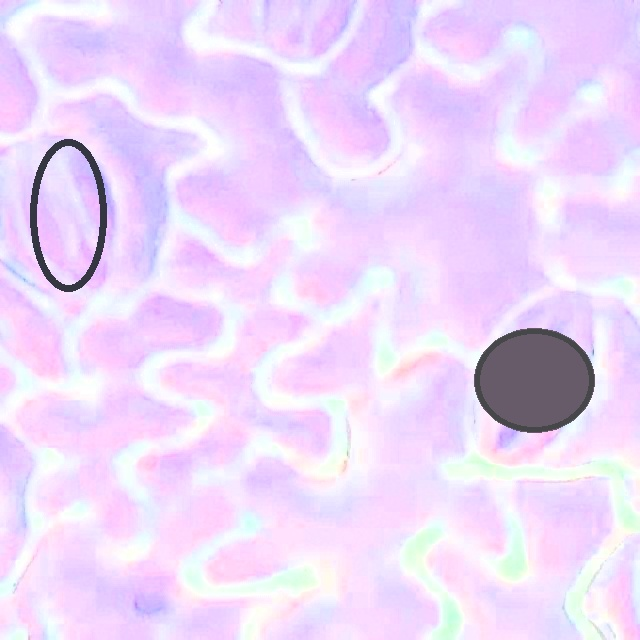open: (473, 329, 595, 432), (29, 140, 106, 290)
